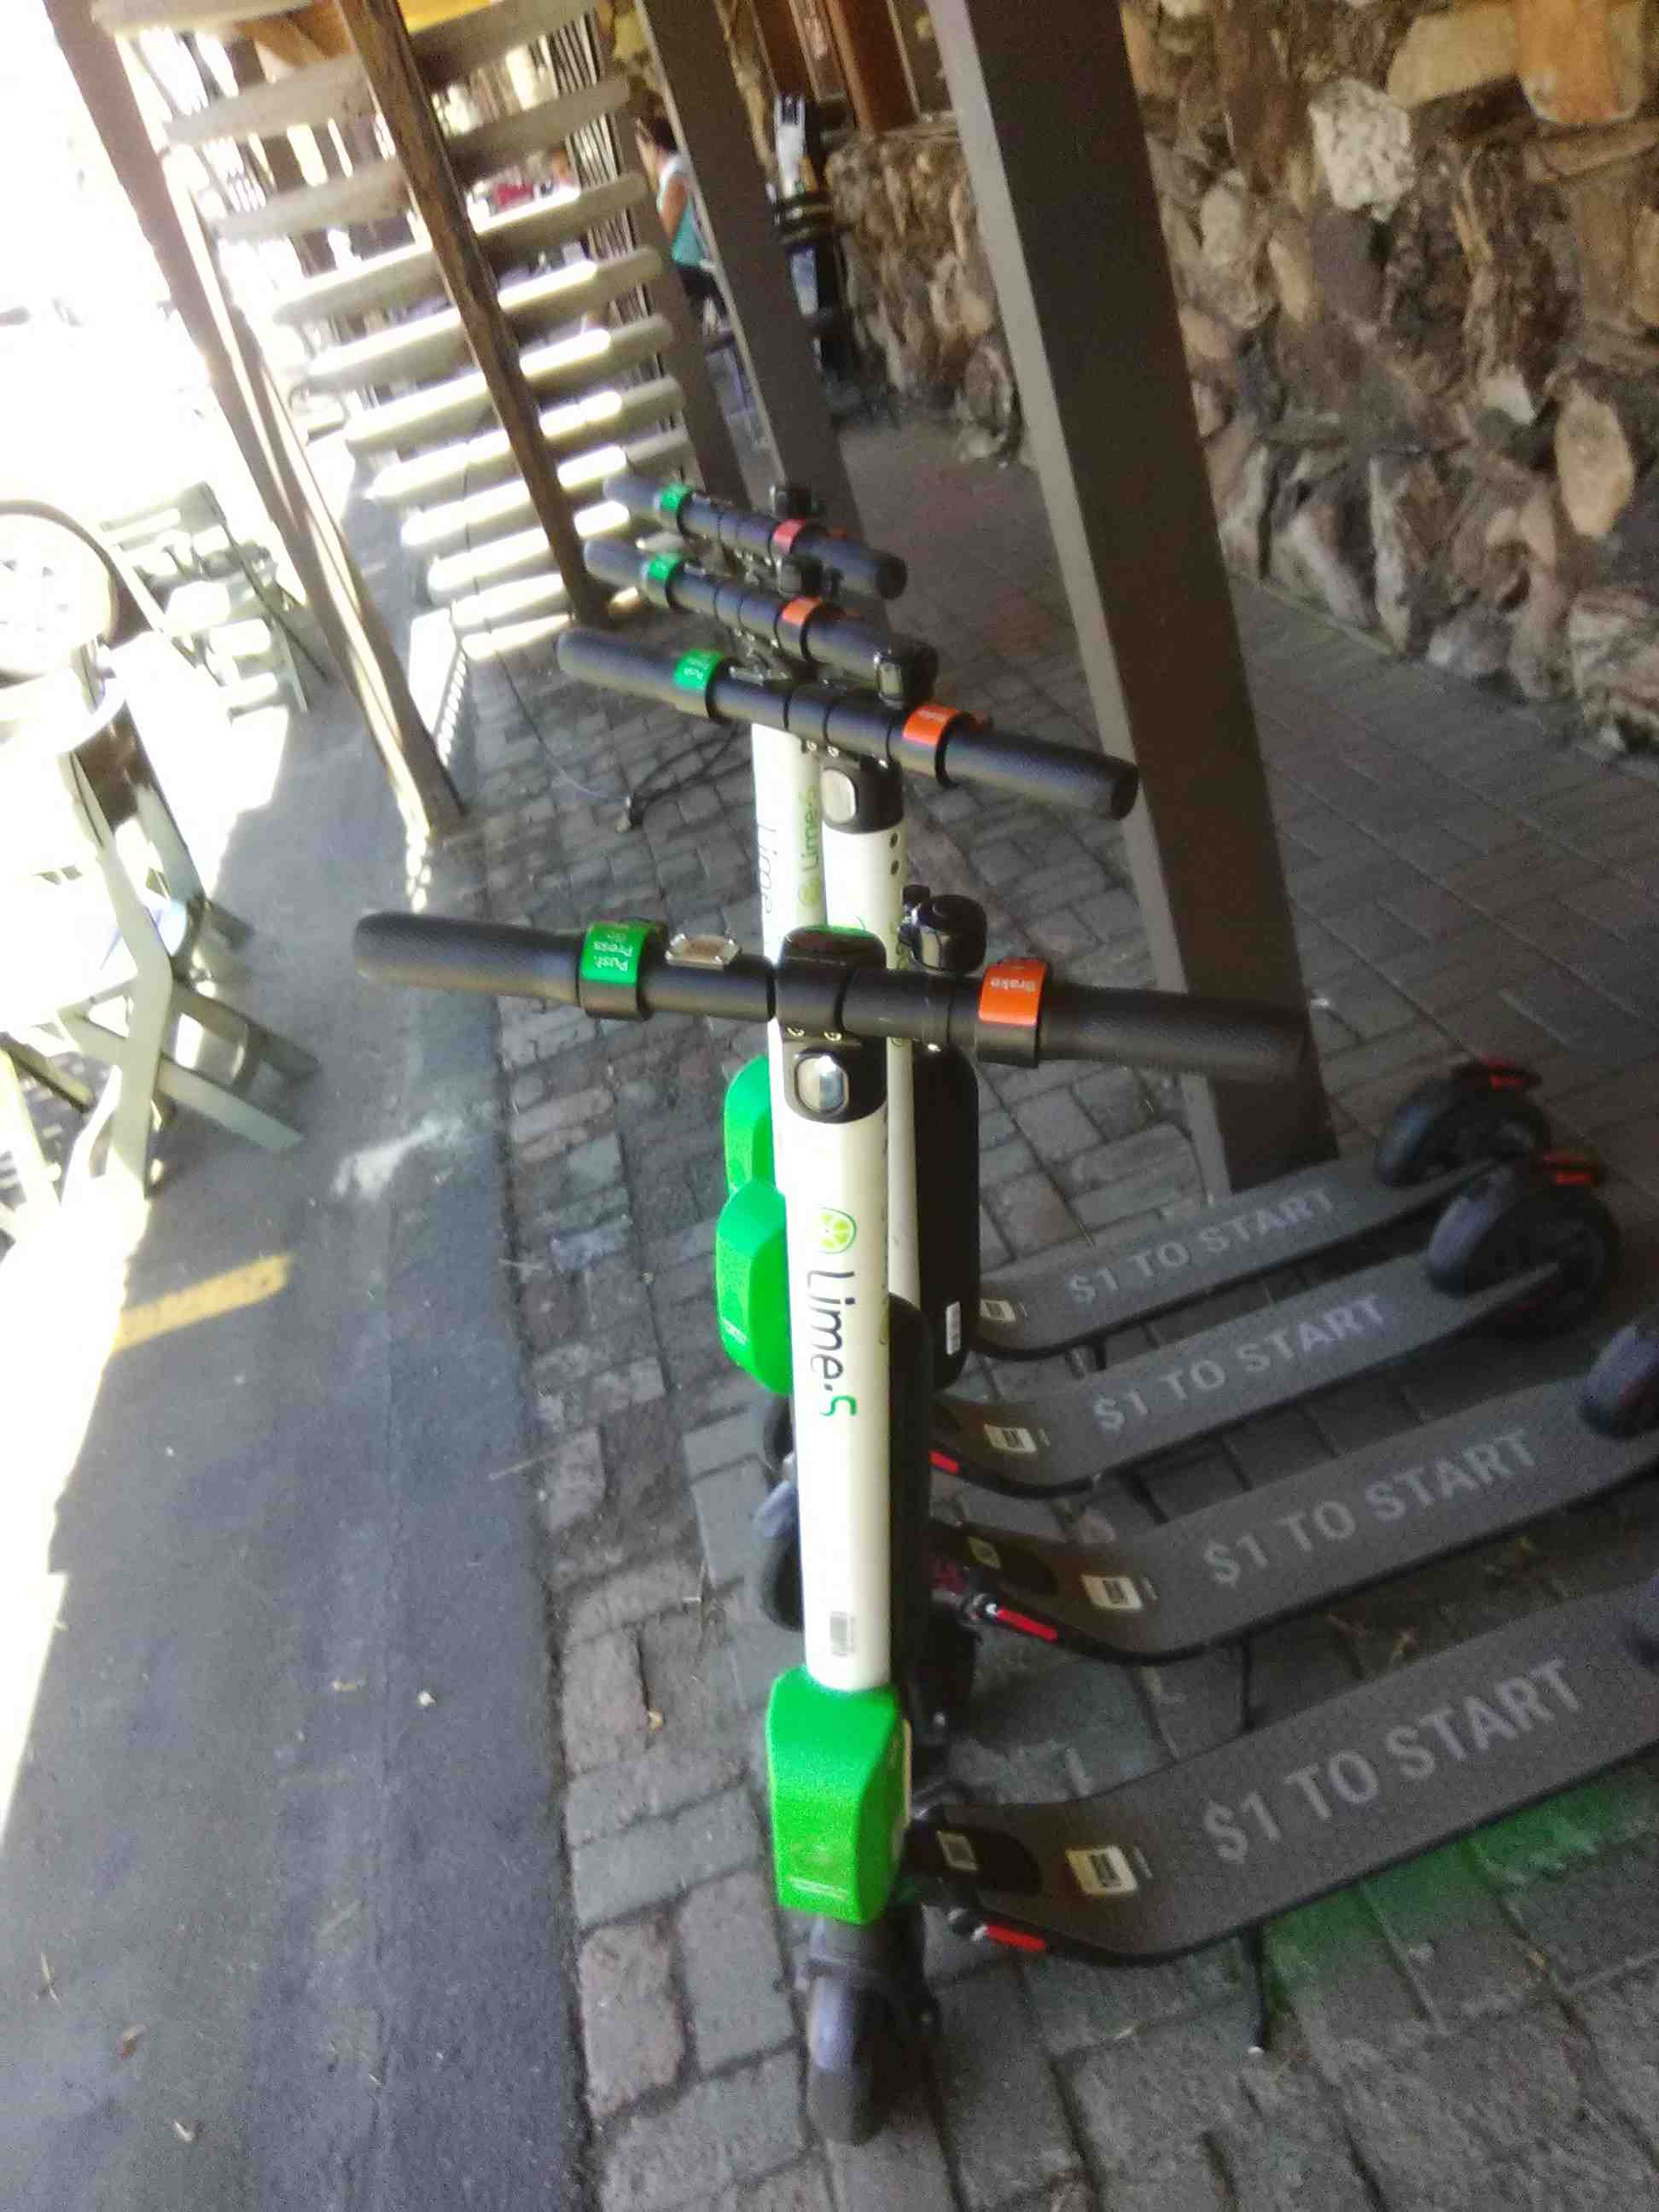scooter: (331, 895, 1659, 2170), (545, 639, 1659, 1646), (573, 547, 1659, 1460), (599, 455, 1614, 1376)
